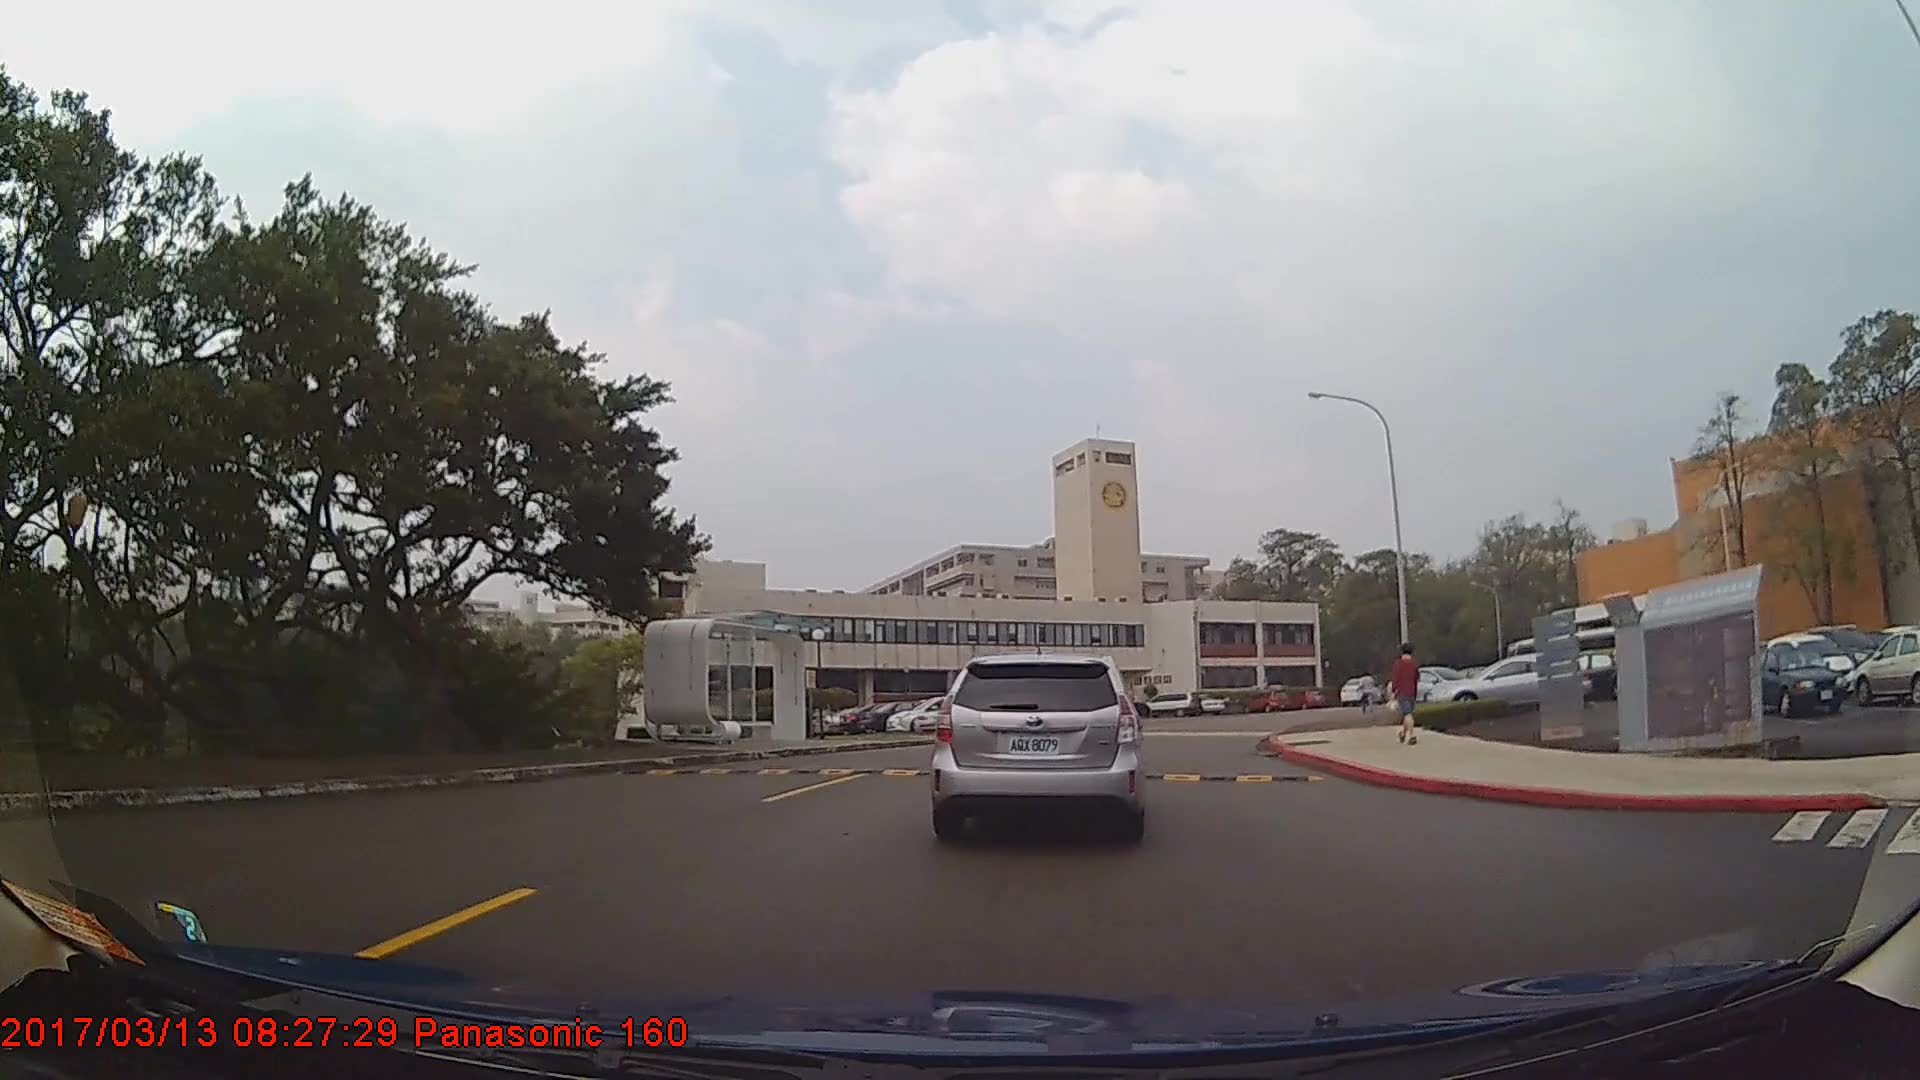pedestrian: (1391, 647, 1423, 751), (1356, 667, 1381, 714)
vehicle: (935, 647, 1139, 840), (1423, 653, 1584, 710), (1745, 642, 1847, 716), (1850, 627, 1920, 707), (1140, 690, 1203, 717), (1338, 675, 1377, 707)
